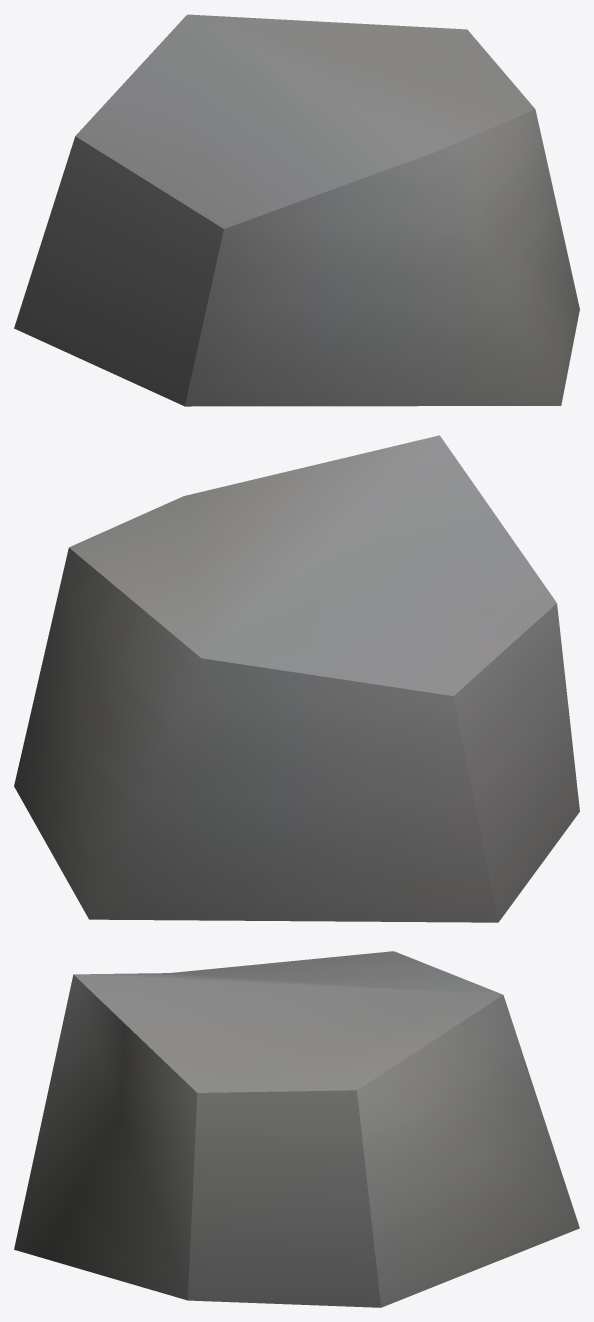
The picture shows the model from 3 angles, top to bottom: view 1: azimuth 30°, elevation 25°; view 2: azimuth 150°, elevation 25°; view 3: azimuth 270°, elevation 25°; orthographic projection. The views are drawn at different scales.
Visible parts, largest first — view 1: Rock001; view 2: Rock001; view 3: Rock001.
Part boxes in pixels (x1,y1,x2,y2): Rock001: (14, 14, 579, 406); Rock001: (14, 435, 579, 922); Rock001: (14, 951, 579, 1307).
Size of the model in its own units: 4.05 by 2.13 by 4.68.
Materials: 1 (1 with a texture image).
